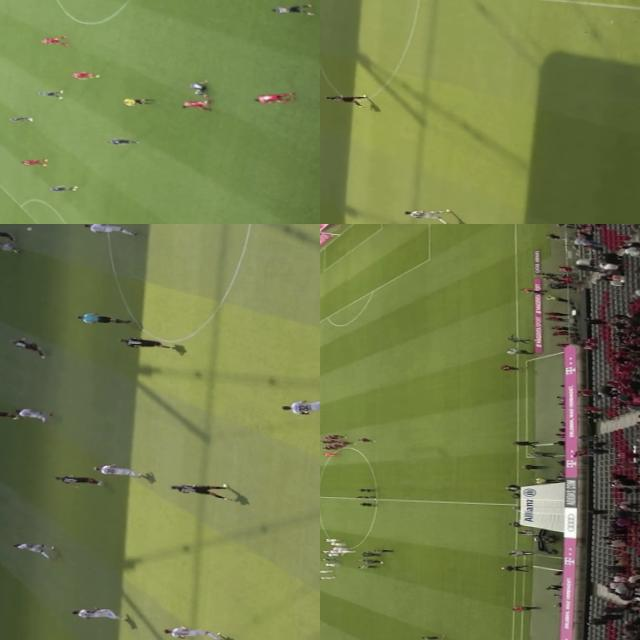ball: (20, 224, 35, 230), (198, 98, 209, 104), (372, 496, 377, 498)
player: (163, 478, 228, 498), (8, 334, 49, 358), (401, 204, 458, 220), (280, 395, 320, 417), (162, 626, 220, 640), (90, 462, 144, 477), (8, 542, 56, 556), (270, 0, 311, 16), (120, 336, 174, 348), (72, 606, 123, 618), (322, 92, 368, 105), (52, 473, 100, 485), (252, 89, 296, 102), (12, 406, 52, 420), (174, 98, 210, 110), (87, 224, 135, 233), (67, 69, 103, 80), (36, 34, 68, 46), (36, 86, 68, 98), (46, 180, 78, 192), (188, 78, 208, 97), (20, 156, 49, 168), (0, 224, 17, 240), (106, 137, 136, 146), (0, 239, 19, 252), (4, 114, 34, 122), (0, 407, 17, 417), (328, 432, 346, 438), (324, 536, 341, 542), (321, 434, 336, 440), (323, 560, 340, 565), (320, 573, 336, 578), (338, 439, 354, 444), (331, 442, 346, 447), (320, 556, 338, 560), (336, 548, 354, 552), (320, 548, 336, 552), (358, 438, 374, 442), (320, 568, 332, 573), (324, 451, 339, 455), (330, 546, 348, 549), (320, 440, 333, 443), (322, 446, 338, 448), (326, 552, 340, 554), (328, 550, 342, 552), (328, 542, 342, 544), (326, 444, 340, 446)
